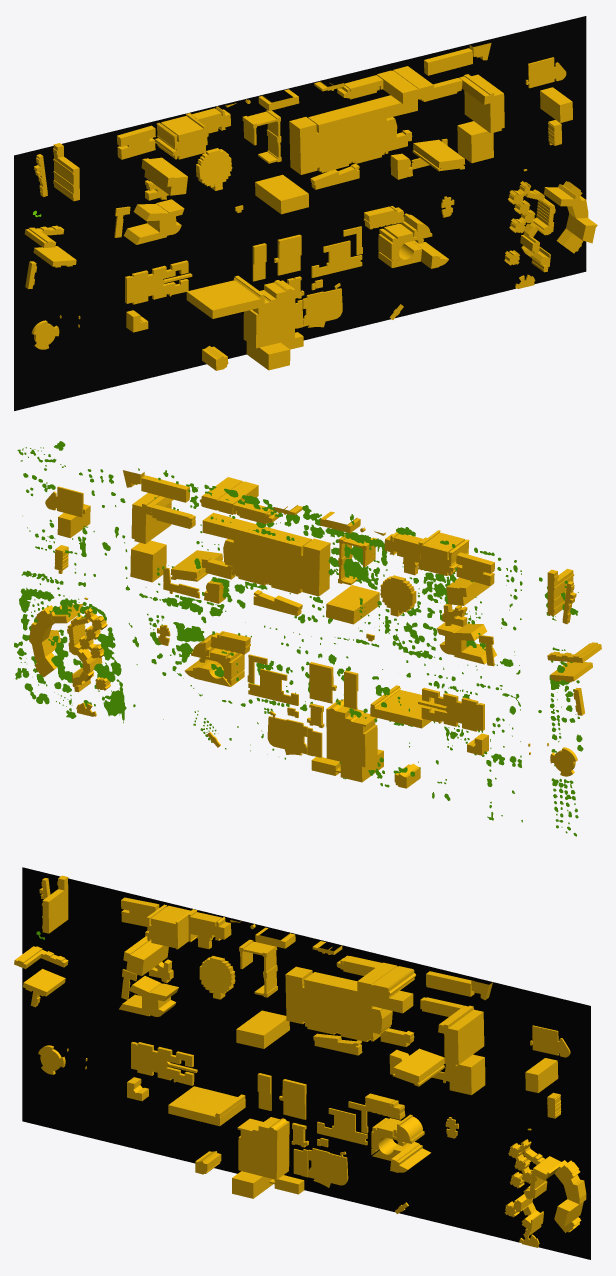
The model's file is existing_buildings_04.glb.
3 views of the same model, one above another, from view 1: azimuth 30°, elevation 25°; view 2: azimuth 150°, elevation 25°; view 3: azimuth 330°, elevation 25° (orthographic).
Parts seen in each view (by area): view 1: Layer 04, existing_building, existing_building - Copy; view 2: existing_building, treesurface, existing_building - Copy; view 3: Layer 04, existing_building, existing_building - Copy.
Boxes of the visible parts, x1,y1,x2,y2 form: Layer 04: [14, 16, 586, 410]; existing_building: [24, 48, 597, 370]; existing_building - Copy: [25, 43, 588, 349]; existing_building: [30, 475, 601, 788]; treesurface: [14, 441, 583, 836]; existing_building - Copy: [29, 470, 584, 776]; Layer 04: [22, 867, 590, 1259]; existing_building: [14, 888, 583, 1235]; existing_building - Copy: [30, 875, 586, 1247].
Bounding box in the file's own units: 1015 × 458 × 78.19.
